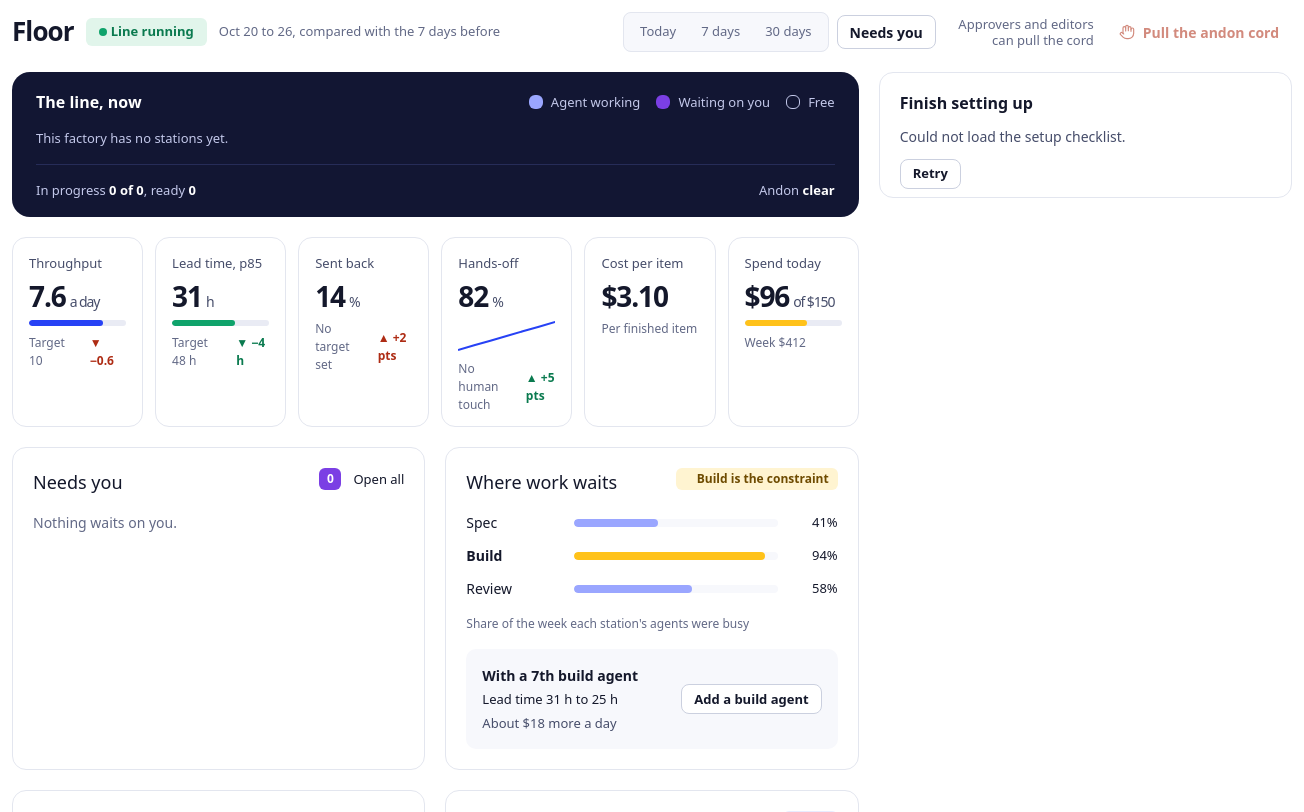
it: the cards below the figures › the what-if › shows the error state with a link to the definition when the draft moved on
Click the button "Add a build agent".
click(751, 699)  # box [681,684,822,714]
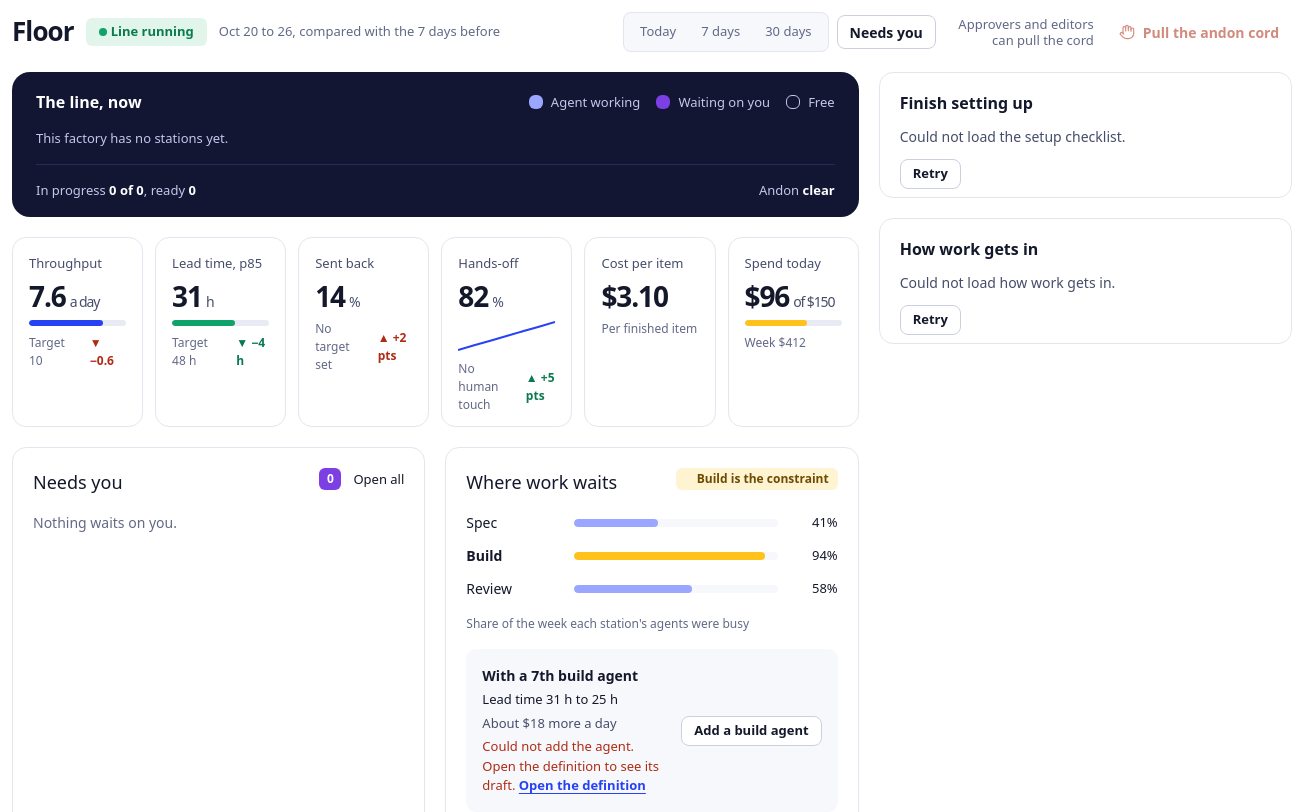
Expected: the 3rd message shows "Could not add the agent.", [482,737,659,794]
